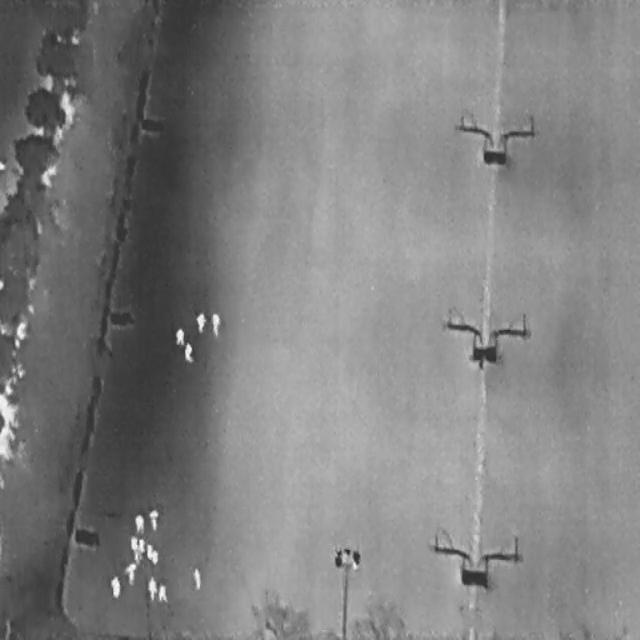Person: (108, 574, 122, 598), (124, 559, 136, 585), (145, 574, 157, 600), (190, 566, 202, 590), (195, 310, 206, 334), (148, 506, 159, 530), (210, 310, 220, 336), (132, 512, 145, 532), (173, 325, 185, 346), (156, 582, 168, 602), (183, 340, 193, 361), (135, 538, 144, 554), (144, 542, 151, 558), (150, 550, 158, 564), (128, 535, 137, 547)
